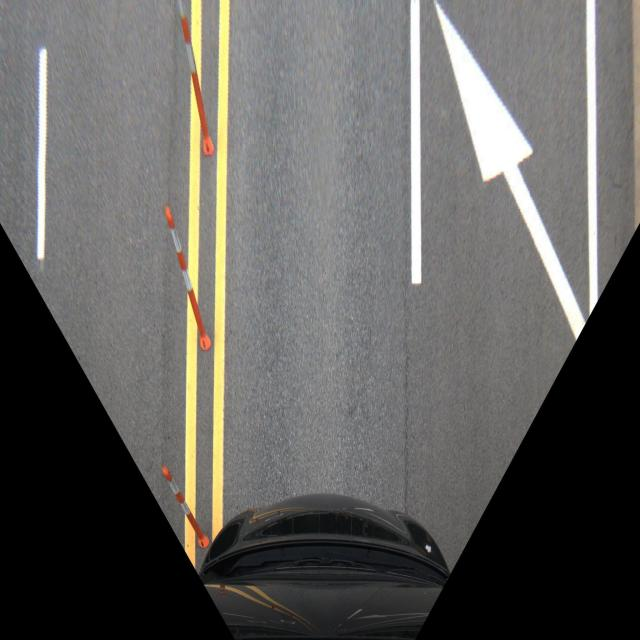chang_lane_left: (405, 5, 604, 327)
